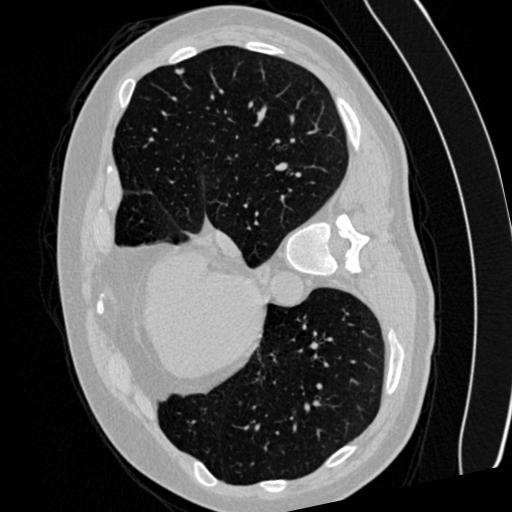nodule: (173, 63, 186, 76)
